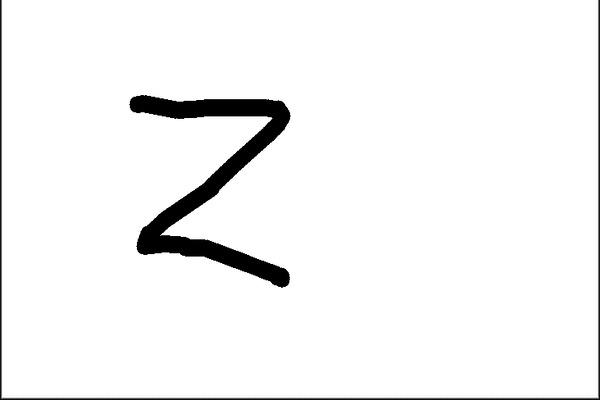Z: (121, 89, 305, 295)
